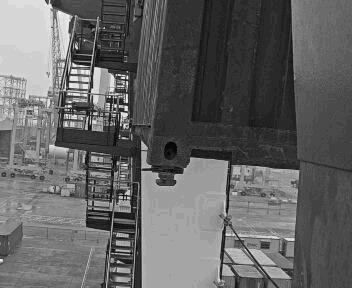twist_lock_1: (170, 163, 215, 195)
